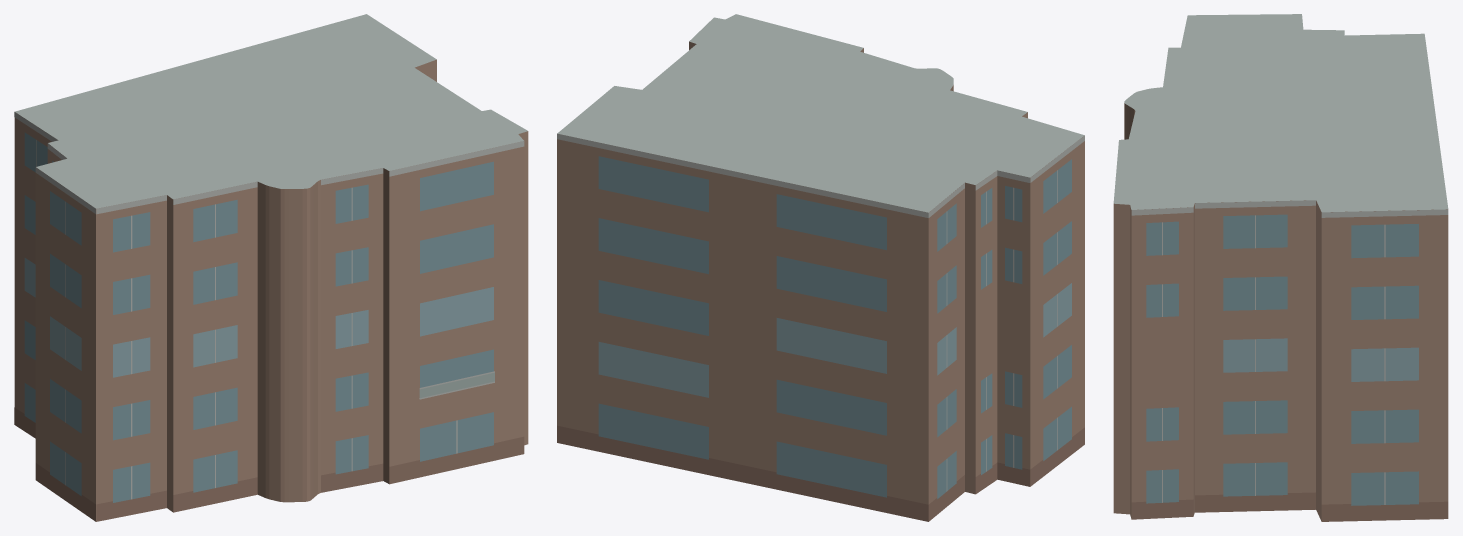
The model's file is survey-upis-32816582.glb.
The picture shows the model from 3 angles, left to right: view 1: azimuth 30°, elevation 25°; view 2: azimuth 150°, elevation 25°; view 3: azimuth 270°, elevation 25°; orthographic projection.
Visible parts, largest first — view 1: survey-upis-32816582.tmp; view 2: survey-upis-32816582.tmp; view 3: survey-upis-32816582.tmp.
Boxes of the visible parts, x1,y1,x2,y2 form: survey-upis-32816582.tmp: (14,14,528,521); survey-upis-32816582.tmp: (557,14,1084,521); survey-upis-32816582.tmp: (1113,14,1448,521).
Size of the model in its own units: 18.63 by 13.55 by 13.3.
